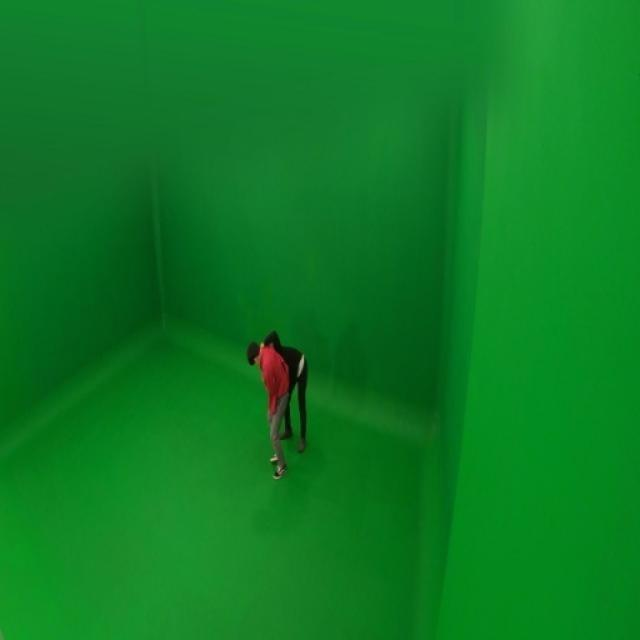violence: (245, 333, 309, 480)
